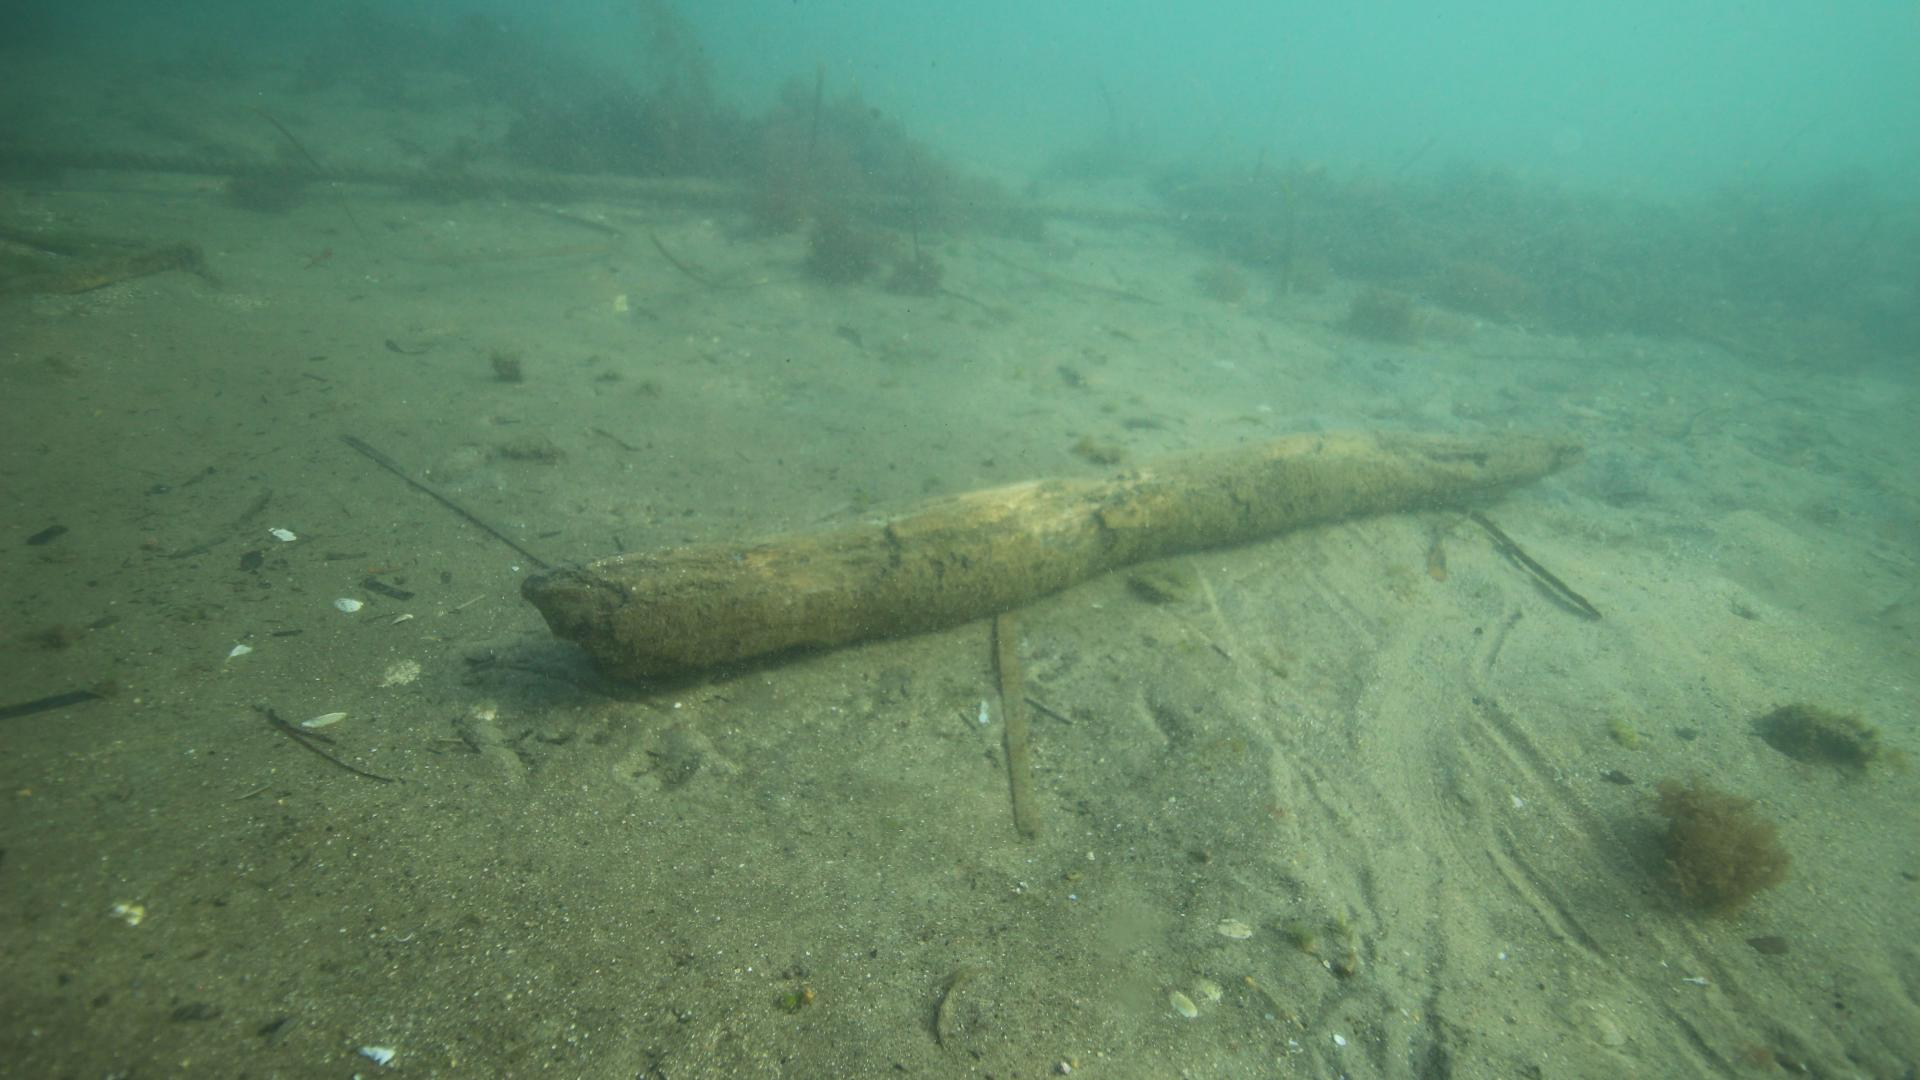wood: (517, 425, 1580, 680)
